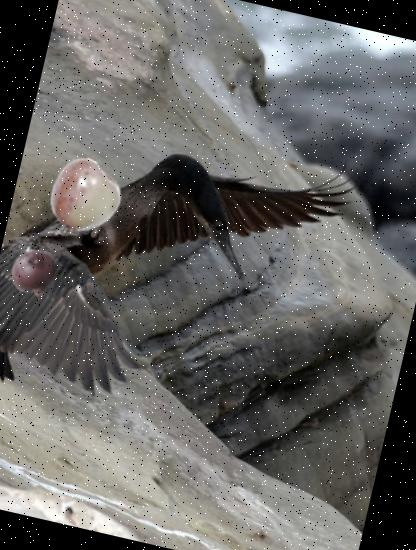Cherry: (43, 154, 128, 238)
Onion: (0, 228, 73, 306)
